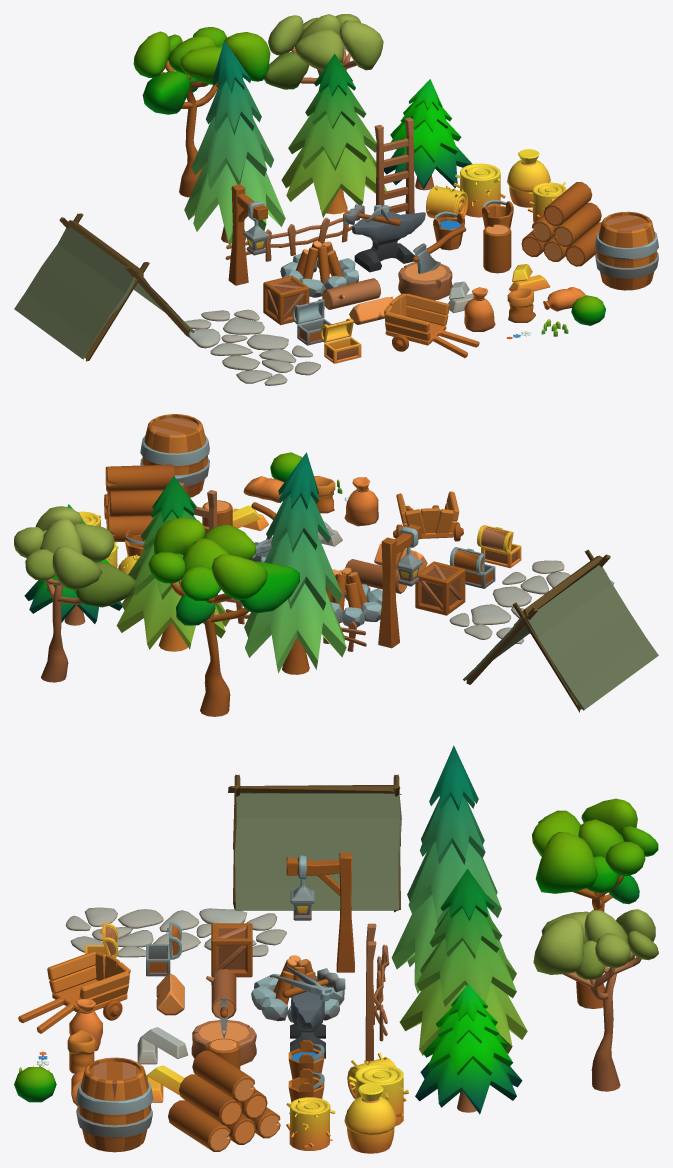
Rendered from ENVIRONEMENTAL_objects_p1.fbx.
3 views of the same model, one above another, from view 1: azimuth 30°, elevation 25°; view 2: azimuth 150°, elevation 25°; view 3: azimuth 270°, elevation 25° (orthographic). The views are drawn at different scales.
Visible parts, largest first — view 1: TENT, Tree_03, Tree_03.1, Tree_01, Tree_02, Stone_road, Tree_03.2, Firewood_04, Barrel, Cart, Haystack_02, Bonfire (+24 smaller); view 2: TENT, Tree_01, Tree_03, Tree_02, Tree_03.1, Barrel, Firewood_04, Stone_road, Streetlight, Box, Bonfire, Cart (+14 smaller); view 3: TENT, Tree_03.1, Tree_01, Tree_03, Tree_02, Tree_03.2, Firewood_04, Barrel, Stone_road, Cart, Streetlight, Haystack_03 (+20 smaller).
Boxes of the visible parts, x1,y1,x2,y2 form: TENT: (14,213,194,361); Tree_03: (184,40,285,244); Tree_03.1: (281,53,386,217); Tree_01: (133,27,270,197); Tree_02: (264,14,383,89); Stone_road: (184,309,320,385); Tree_03.2: (384,79,472,190); Firewood_04: (521,182,601,266); Barrel: (595,211,658,290); Cart: (384,293,479,358); Haystack_02: (426,163,505,219); Bonfire: (280,241,358,297); TENT: (463,549,658,712); Tree_01: (148,517,299,716); Tree_03: (244,452,346,674); Tree_02: (14,506,135,682); Tree_03.1: (116,476,229,651); Barrel: (140,414,209,497); Firewood_04: (104,464,174,541); Stone_road: (449,560,614,644); Streetlight: (378,524,422,648); Box: (415,561,465,615); Bonfire: (325,567,382,626); Cart: (393,491,463,541); TENT: (228,774,401,912); Tree_03.1: (399,868,527,1055); Tree_01: (532,798,658,1008); Tree_03: (391,745,505,993); Tree_02: (533,909,658,1091); Tree_03.2: (415,984,522,1114); Firewood_04: (168,1050,280,1151); Barrel: (76,1057,153,1152); Stone_road: (65,907,286,957); Cart: (18,951,130,1033); Streetlight: (286,852,354,972); Haystack_03: (344,1083,396,1153).
Size of the model in its own units: 3552 by 1337 by 3162.
3 materials, 1 textured.
